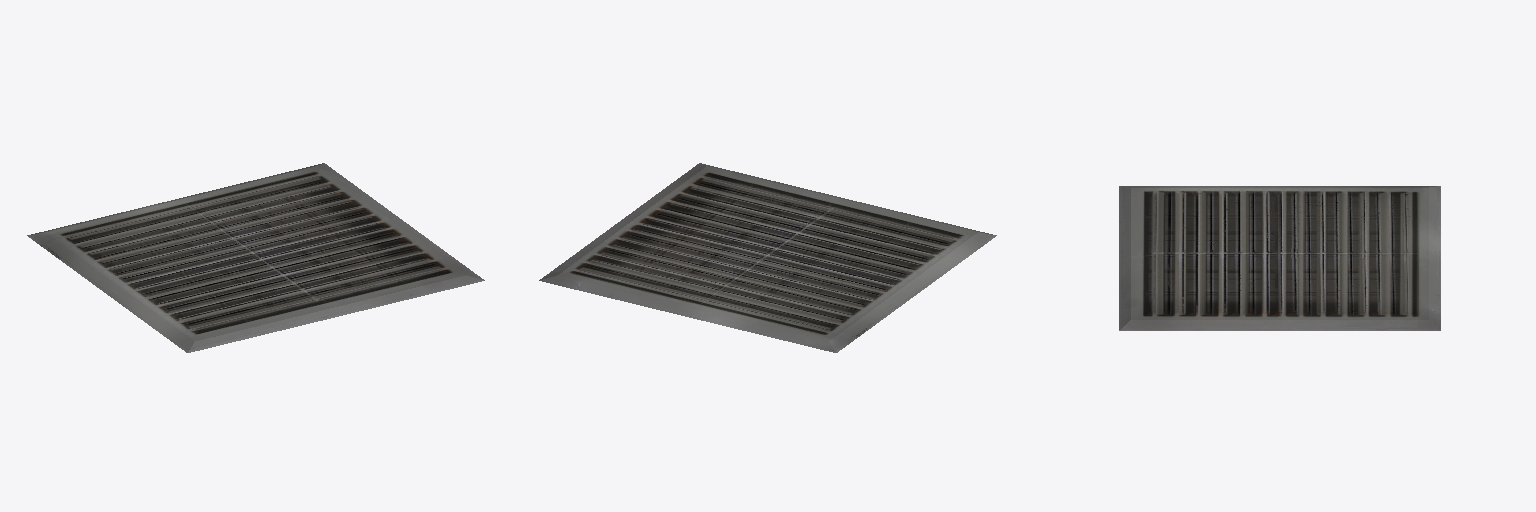
3 views of the same model, side by side, from view 1: azimuth 30°, elevation 25°; view 2: azimuth 150°, elevation 25°; view 3: azimuth 270°, elevation 25° (orthographic).
Visible parts, largest first — view 1: vent_3; view 2: vent_3; view 3: vent_3.
Boxes of the visible parts, x1,y1,x2,y2 form: vent_3: [27, 163, 484, 352]; vent_3: [539, 163, 996, 352]; vent_3: [1119, 186, 1440, 330].
Size of the model in its own units: 0.3163 by 0.0045 by 0.296.
Materials: 1 (1 with a texture image).